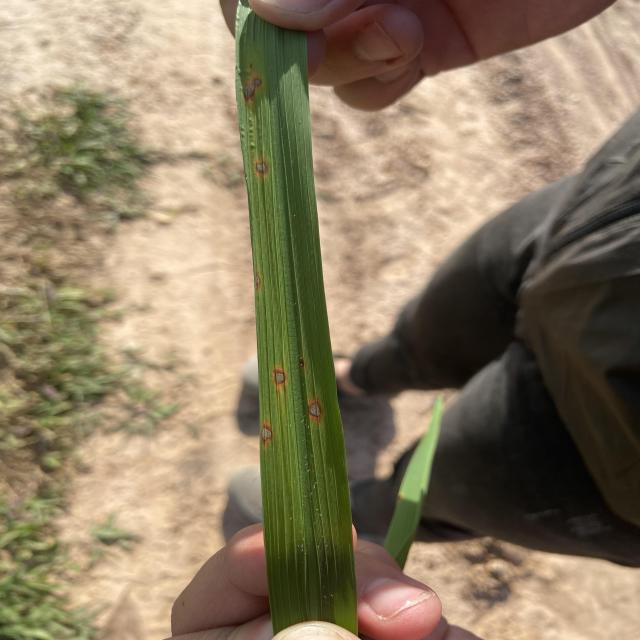Dao on: (244, 79, 261, 99), (308, 402, 322, 418), (262, 428, 271, 441), (275, 373, 285, 383), (257, 163, 266, 172), (255, 275, 260, 285)
